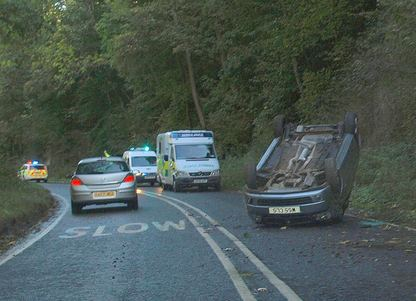ambulance: (158, 131, 222, 191), (123, 145, 160, 186), (19, 160, 48, 184)
